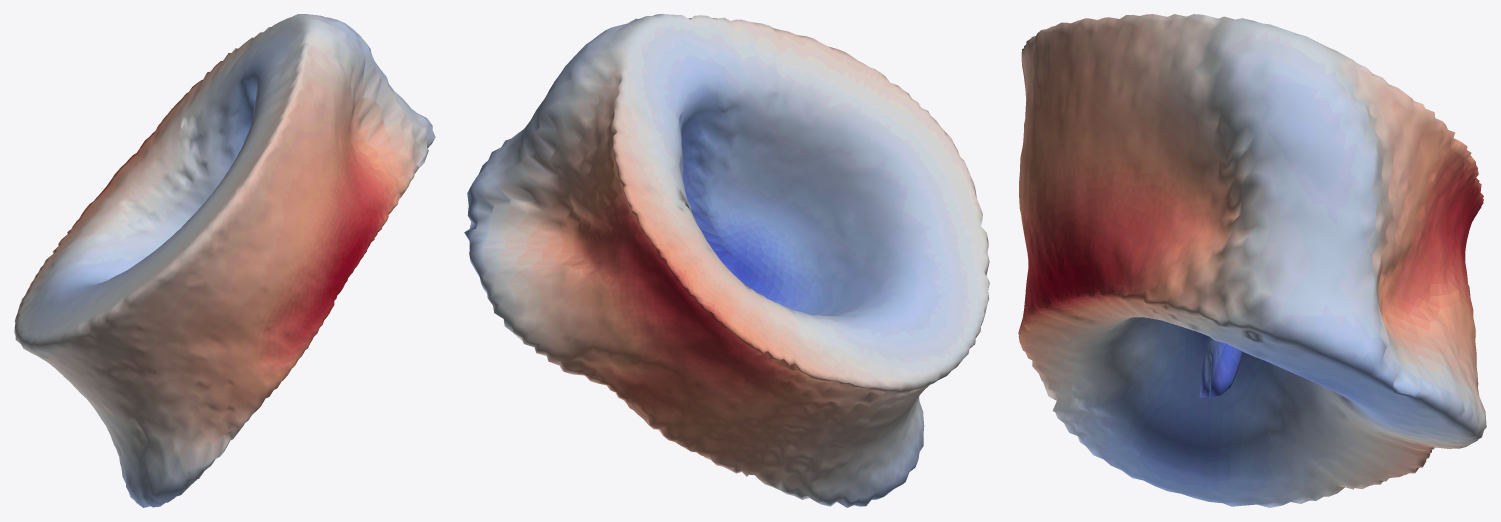
The model's file is colored_model.obj.
3 views of the same model, side by side, from view 1: azimuth 30°, elevation 25°; view 2: azimuth 150°, elevation 25°; view 3: azimuth 270°, elevation 25° (orthographic). The views are drawn at different scales.
Size of the model in its own units: 19.6 by 18.62 by 12.86.
